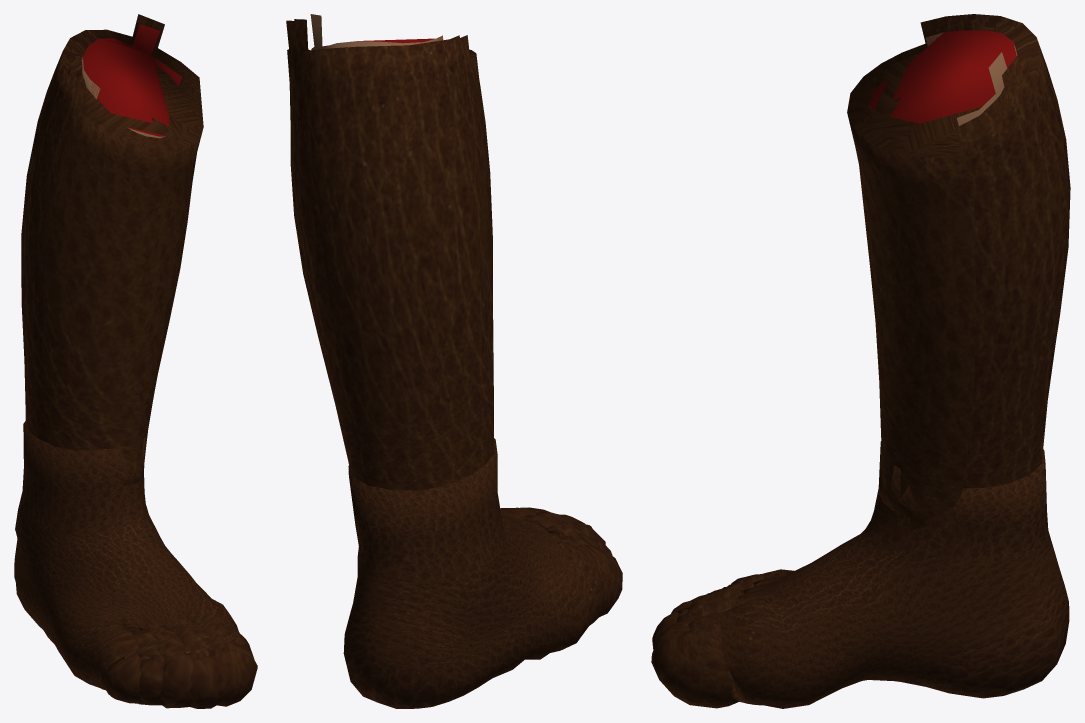
The model's file is SM_Part_M3_leg_r.gltf.
3 views of the same model, side by side, from view 1: azimuth 30°, elevation 25°; view 2: azimuth 150°, elevation 25°; view 3: azimuth 270°, elevation 25° (orthographic). The views are drawn at different scales.
Visible parts, largest first — view 1: SM_Part_M3_leg_r; view 2: SM_Part_M3_leg_r; view 3: SM_Part_M3_leg_r.
Boxes of the visible parts, <box> form: SM_Part_M3_leg_r: <box>14,14,257,708</box>; SM_Part_M3_leg_r: <box>286,14,622,708</box>; SM_Part_M3_leg_r: <box>651,14,1070,708</box>.
Bounding box in the file's own units: 0.1811 × 0.526 × 0.2941.
4 materials, 2 textured.
